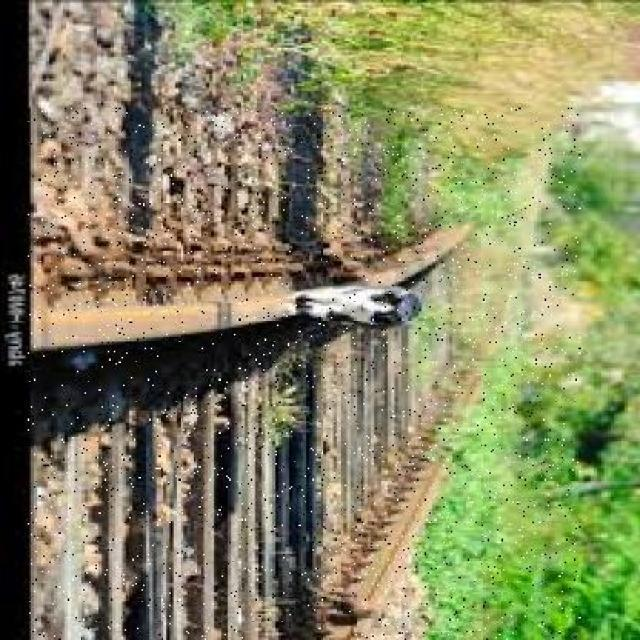danger: (285, 263, 424, 337)
rail: (26, 108, 577, 640)
